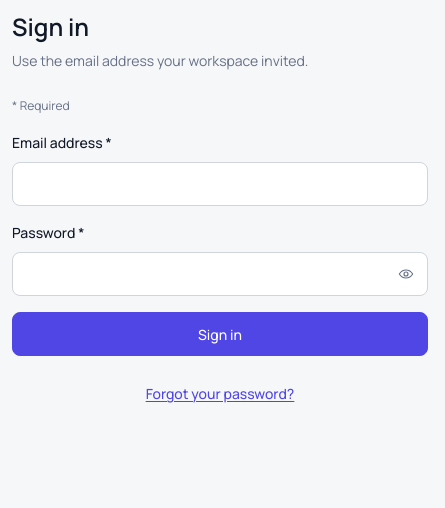
Test: LoginForm › reports a rejected credential without saying which half was wrong, and keeps the input
In the field labelled "Email address *": (220, 184) [12, 162, 428, 206], type "amina@northwind.example"
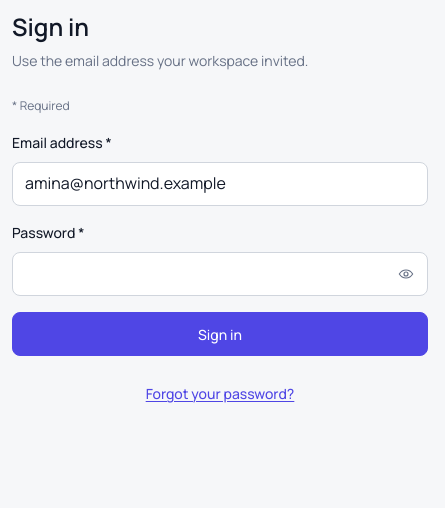
In the password field labelled "Password *": (220, 274) [12, 252, 428, 296], type "wrong password"
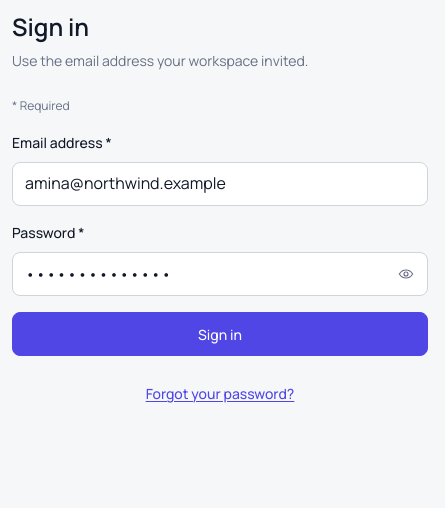
Click the button "Sign in": (220, 334) [12, 312, 428, 356]
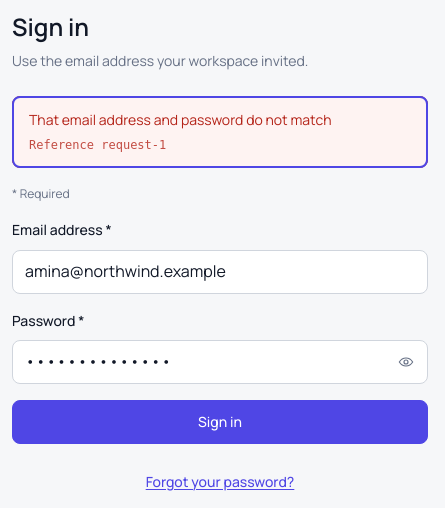
expect the message shows "That email address and password do not match": met, box [29, 110, 332, 129]
